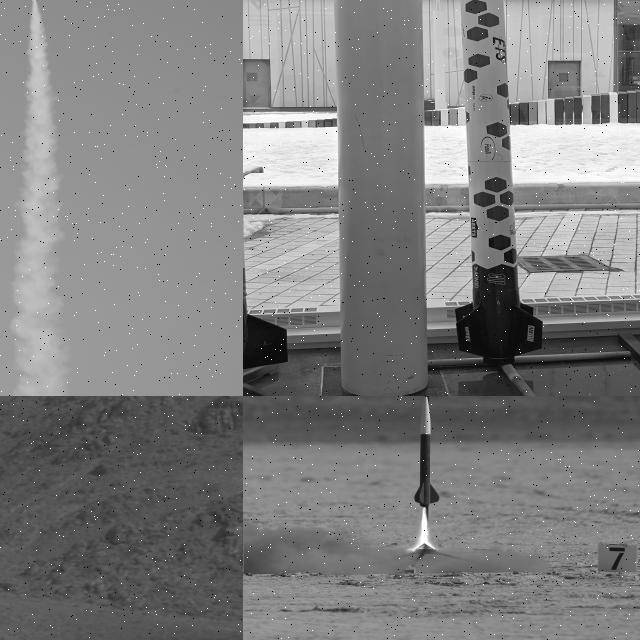Rocket: (455, 0, 543, 365), (414, 396, 441, 507)
